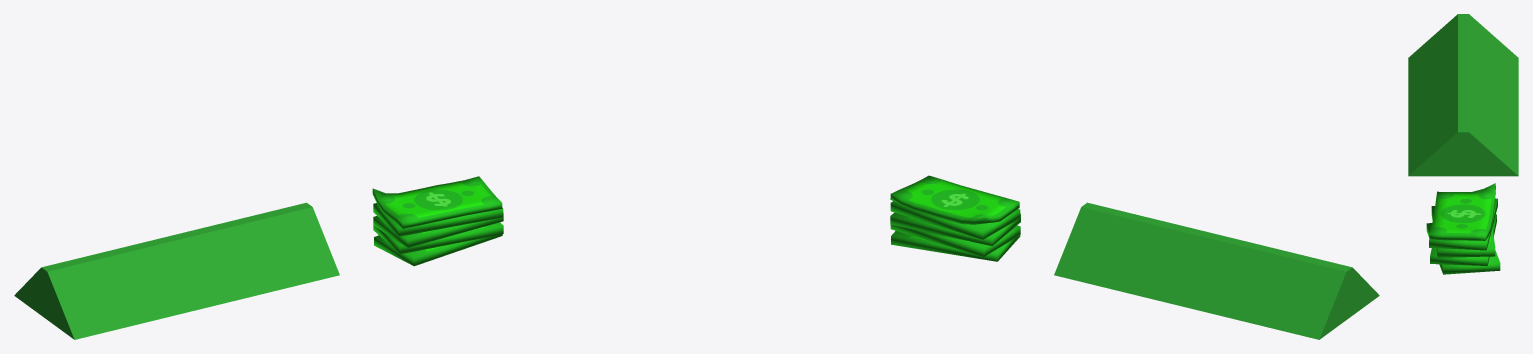
Rendered from props.fbx.
The picture shows the model from 3 angles, left to right: view 1: azimuth 30°, elevation 25°; view 2: azimuth 150°, elevation 25°; view 3: azimuth 270°, elevation 25°; orthographic projection. The views are drawn at different scales.
Visible parts, largest first — view 1: Cube.020, Cube.023; view 2: Cube.020, Cube.023; view 3: Cube.020, Cube.023.
Part boxes in pixels (left/top/right/bottom): Cube.020: left=14, top=202, right=339, bottom=339; Cube.023: left=372, top=176, right=503, bottom=266; Cube.020: left=1054, top=202, right=1379, bottom=339; Cube.023: left=890, top=175, right=1020, bottom=261; Cube.020: left=1408, top=14, right=1518, bottom=176; Cube.023: left=1426, top=183, right=1500, bottom=274.
Size of the model in its own units: 4.1 by 1.07 by 0.68.
1 material, 1 textured.
